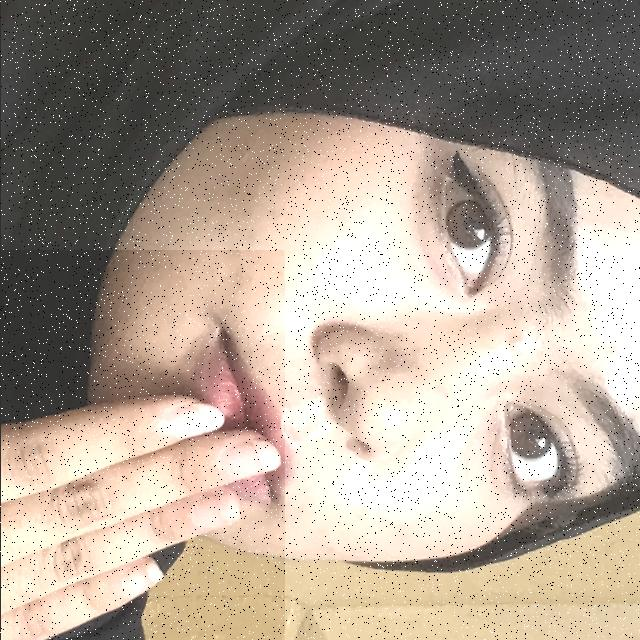ganteng: (0, 250, 284, 640)
